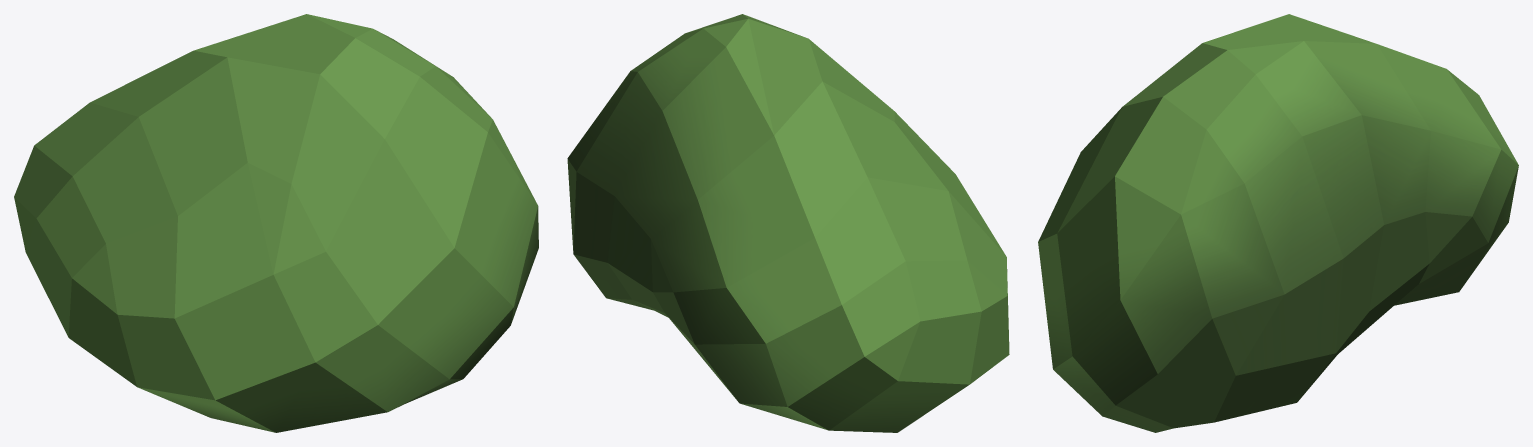
The model's file is Birch-Bush-05.fbx.
3 renders of one model, left to right at view 1: azimuth 30°, elevation 25°; view 2: azimuth 150°, elevation 25°; view 3: azimuth 270°, elevation 25°, orthographic. The views are drawn at different scales.
Parts seen in each view (by area): view 1: Birch-Bush-05; view 2: Birch-Bush-05; view 3: Birch-Bush-05.
Boxes of the visible parts, bbox=[...] form: Birch-Bush-05: bbox=[14, 14, 538, 432]; Birch-Bush-05: bbox=[567, 14, 1009, 432]; Birch-Bush-05: bbox=[1038, 14, 1518, 432].
Size of the model in its own units: 489 by 378 by 453.
Materials: 1 (1 with a texture image).
